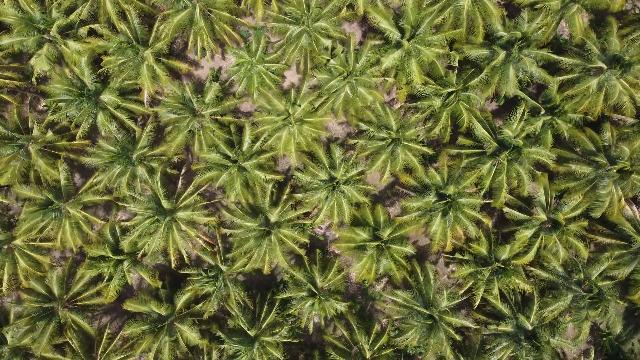trees: (529, 230, 637, 351), (117, 170, 228, 273), (449, 102, 560, 204), (4, 258, 113, 360), (546, 13, 640, 130), (218, 182, 317, 280), (194, 113, 289, 208), (401, 165, 494, 260), (98, 7, 187, 105), (15, 170, 112, 258), (389, 269, 479, 360), (335, 203, 427, 291), (2, 101, 86, 195), (556, 121, 640, 215), (445, 227, 534, 315), (153, 77, 244, 163), (504, 182, 590, 271), (80, 117, 171, 201), (251, 81, 334, 172), (474, 281, 569, 360), (409, 60, 495, 146), (2, 4, 99, 80), (291, 143, 378, 227), (45, 60, 132, 143), (347, 104, 431, 187), (309, 37, 389, 124), (204, 286, 298, 360), (118, 285, 208, 360), (72, 219, 152, 300), (469, 43, 551, 110), (157, 3, 237, 63), (223, 35, 290, 106), (414, 2, 499, 51), (322, 308, 402, 360), (498, 5, 568, 54)
